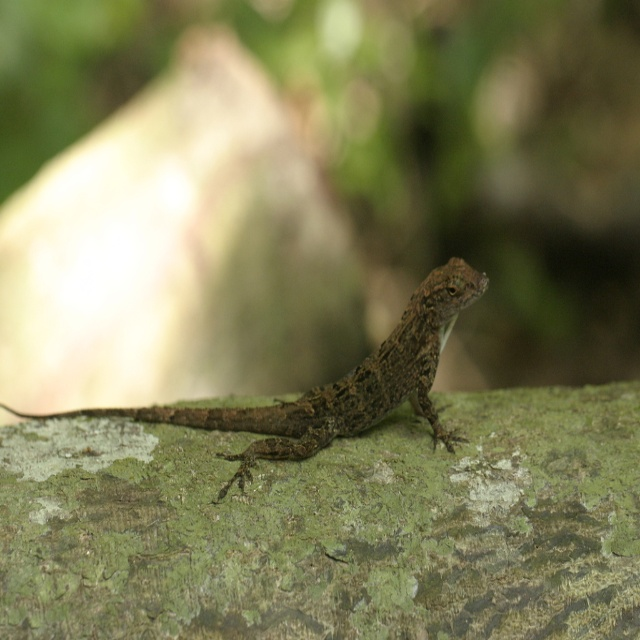Lizard: (2, 260, 486, 495)
